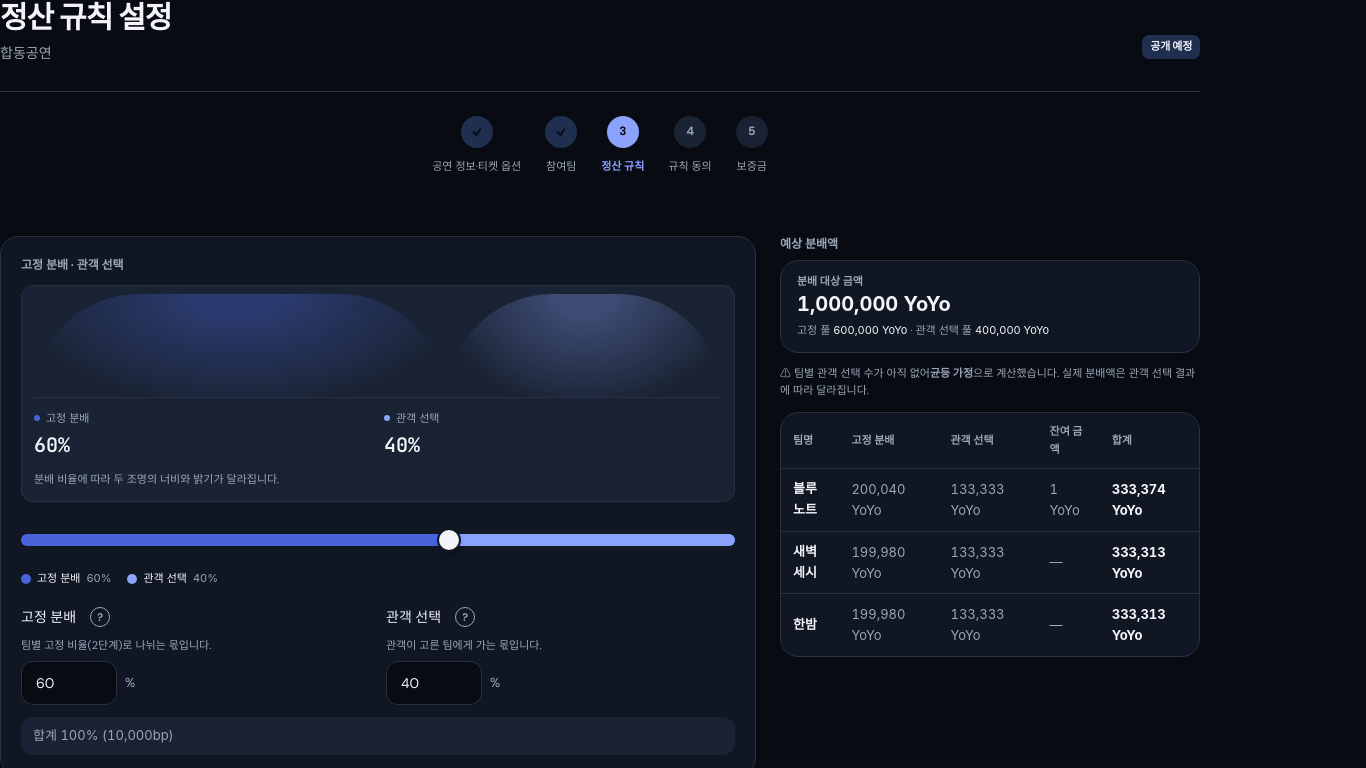
Scenario: P-05 도움말 모달 › 관객 선택 설명 버튼이 예시 모달을 열고 Esc 로 닫으면 버튼으로 포커스가 돌아온다
Click the button named "관객 선택 설명". click: (465, 617)
box: [443, 595, 487, 639]
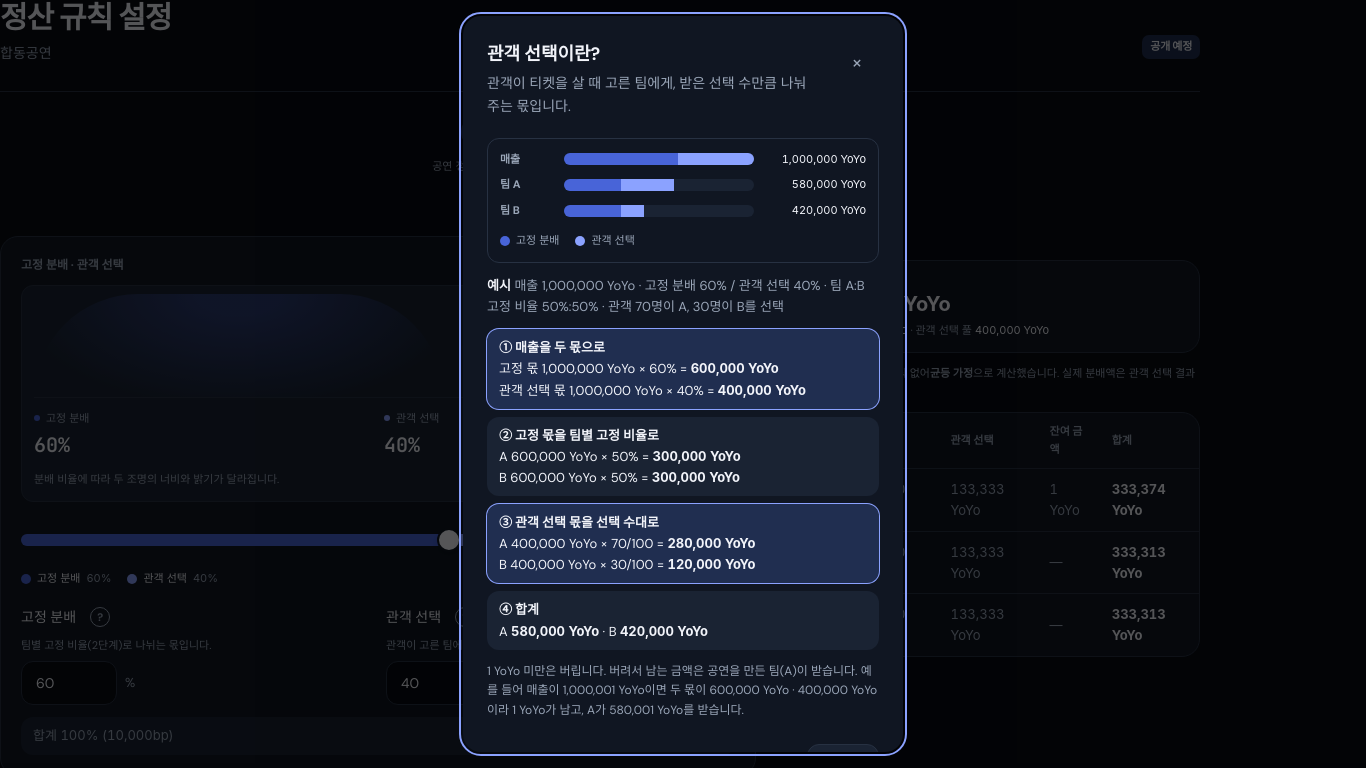
Check: the list item with test id "rule-help-step-1" shows "600,000 YoYo", box [691, 360, 779, 376]
Check: the list item with test id "rule-help-step-1" shows "400,000 YoYo", box [718, 382, 806, 398]
Check: the list item with test id "rule-help-step-2" shows "300,000 YoYo", box [653, 448, 741, 464]
Press Escape
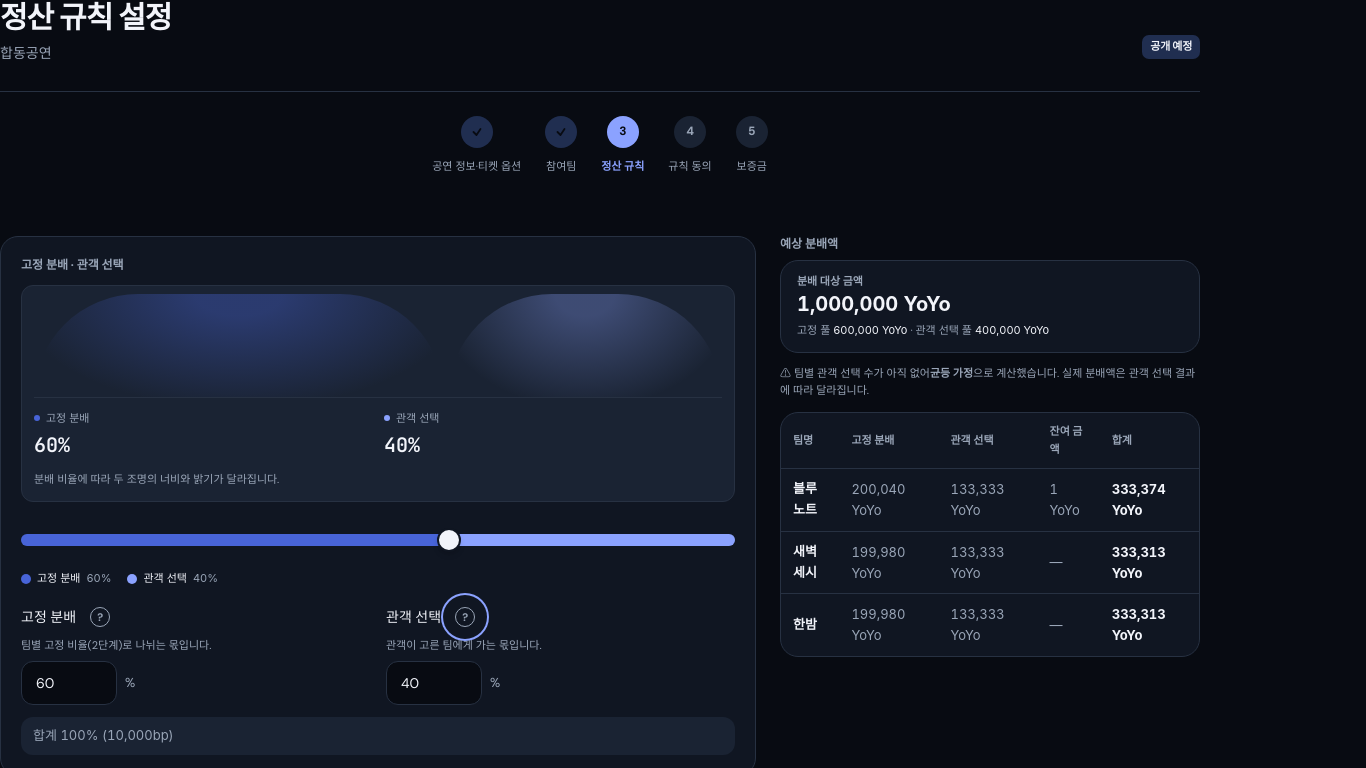
Check: the dialog is gone
